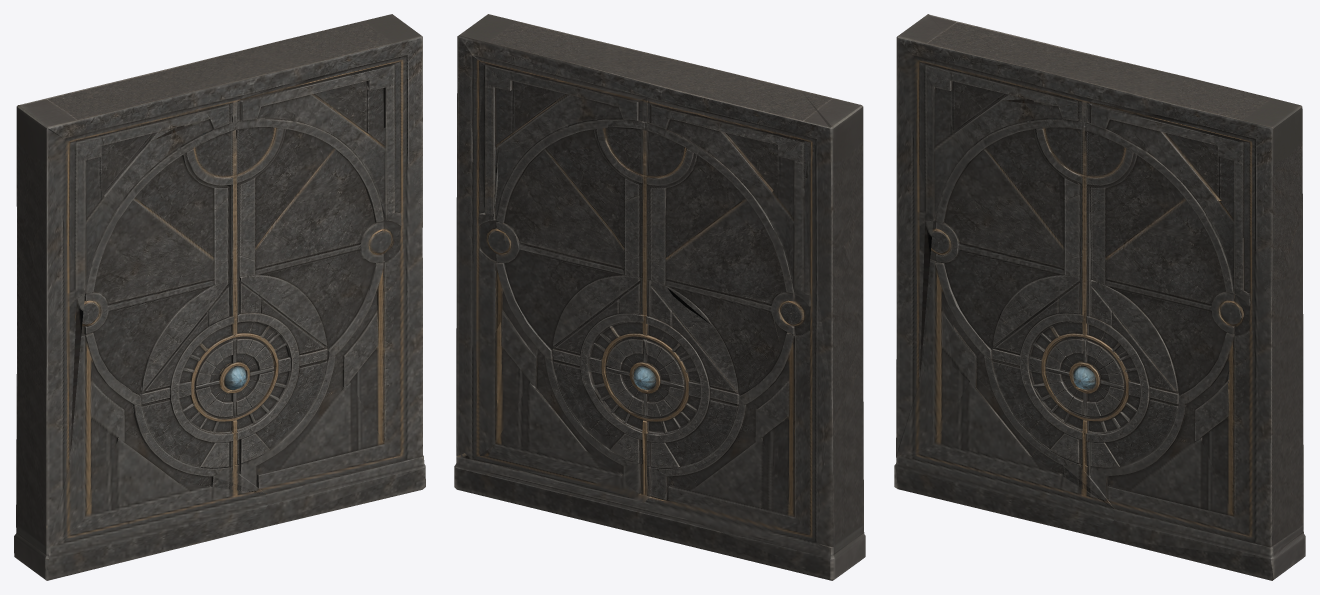
Rendered from door_magical_sliding.glb.
3 renders of one model, left to right at view 1: azimuth 30°, elevation 25°; view 2: azimuth 150°, elevation 25°; view 3: azimuth 330°, elevation 25°, orthographic.
Parts seen in each view (by area): view 1: output_unwrapped; view 2: output_unwrapped; view 3: output_unwrapped.
Boxes of the visible parts, <box> form: output_unwrapped: <box>14,14,425,580</box>; output_unwrapped: <box>454,14,865,580</box>; output_unwrapped: <box>894,14,1305,580</box>.
Bounding box in the file's own units: 1.67 × 1.9 × 0.3092.
Materials: 1 (1 with a texture image).
